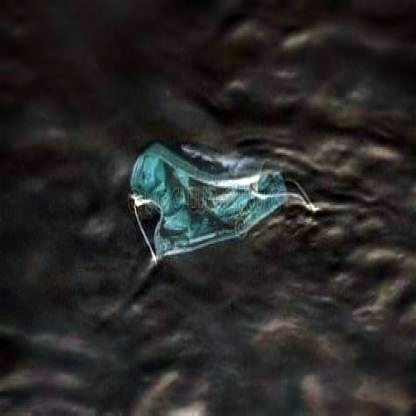Mask: (124, 134, 318, 277)
